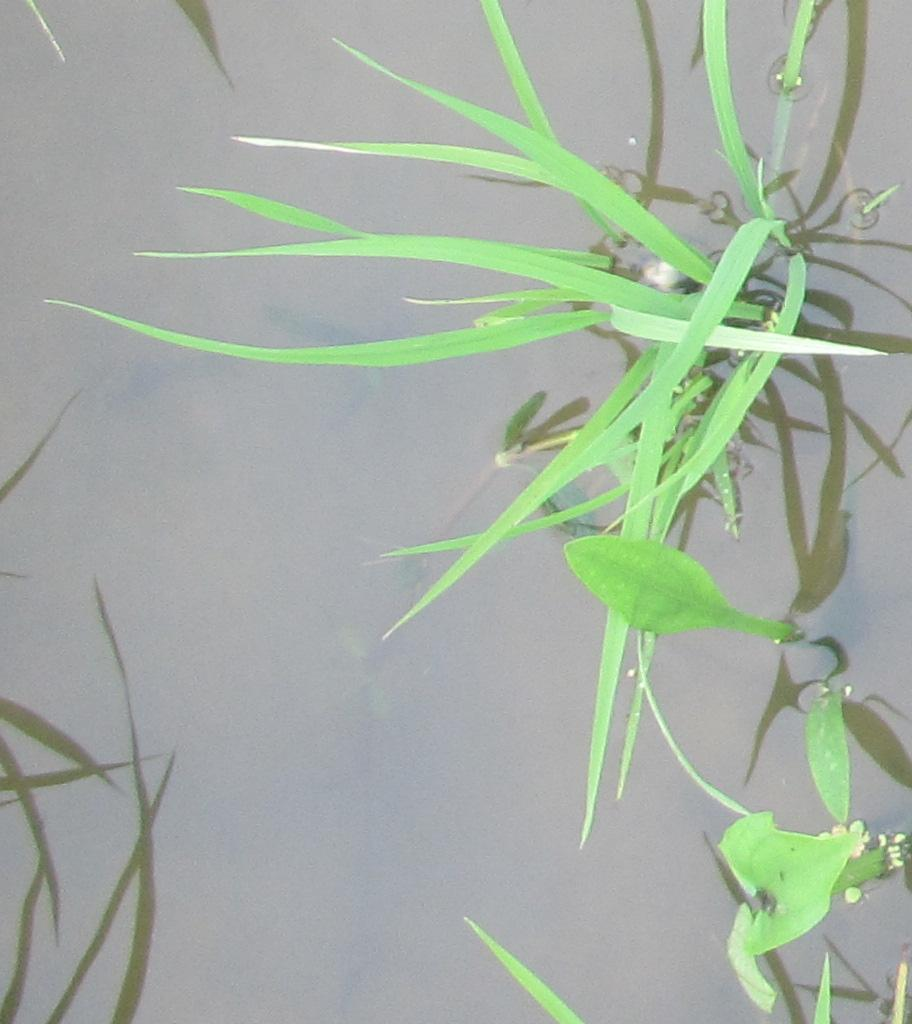Weed: (553, 530, 863, 1011)
